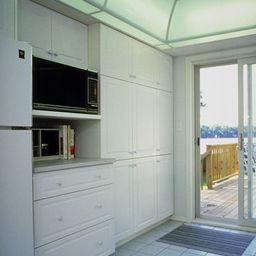Armario: (36, 172, 114, 253), (102, 77, 174, 157), (102, 23, 173, 89), (114, 160, 174, 228)
Electrodomestico: (2, 37, 35, 253), (34, 55, 98, 115)
